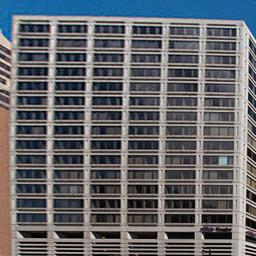building: (11, 11, 241, 255)
